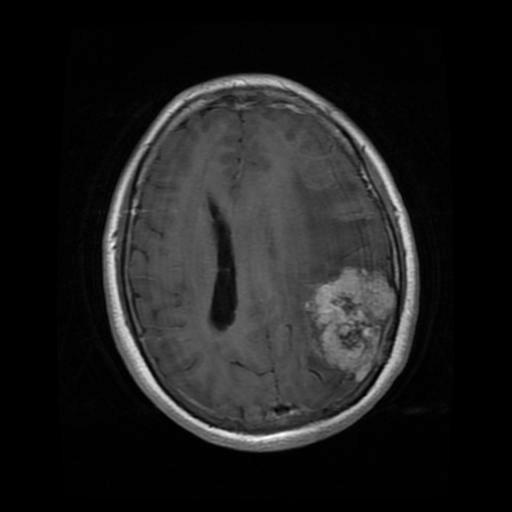Tumour-Pituitary: (296, 249, 403, 397)
